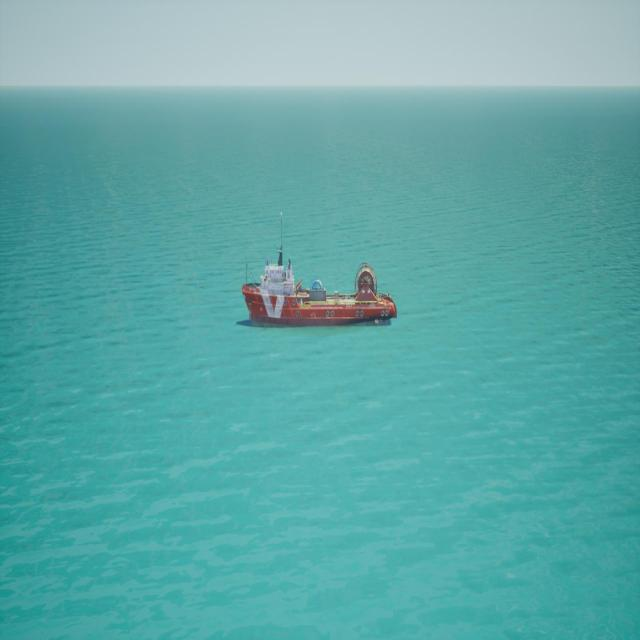tug boat: (238, 216, 398, 334)
